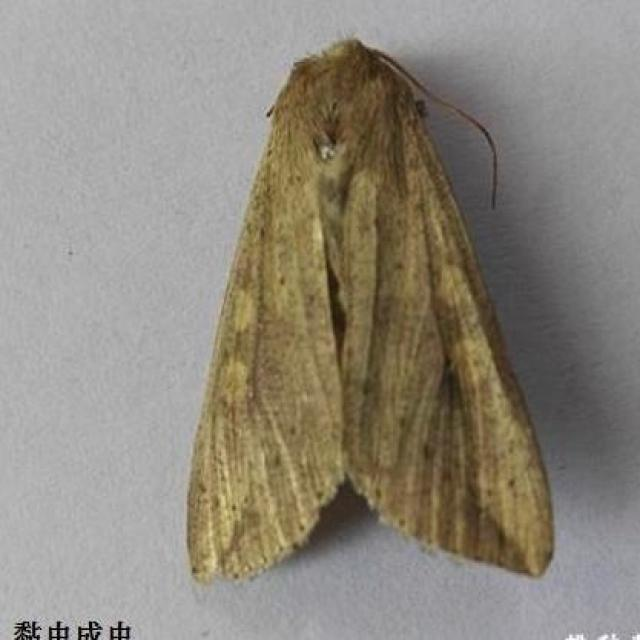army worm: (182, 28, 594, 604)
